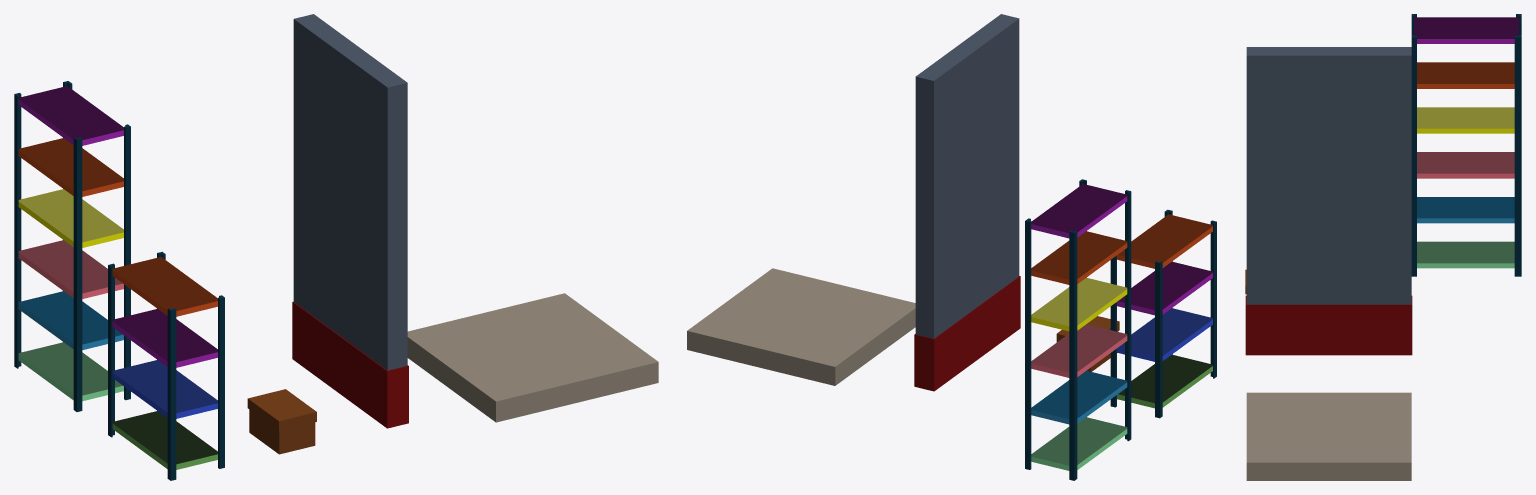
The model's file is CosasArchivo.fbx.
The picture shows the model from 3 angles, left to right: view 1: azimuth 30°, elevation 25°; view 2: azimuth 150°, elevation 25°; view 3: azimuth 270°, elevation 25°; orthographic projection. The views are drawn at different scales.
Parts seen in each view (by area): view 1: ParedArchivo, 2, PisoAr, 1, CajaGrande; view 2: ParedArchivo, 2, PisoAr, 1; view 3: ParedArchivo, 2, PisoAr.
Boxes of the visible parts, x1,y1,x2,y2 form: ParedArchivo: (292, 14, 408, 428); 2: (14, 81, 130, 411); PisoAr: (407, 293, 658, 422); 1: (108, 251, 224, 480); CajaGrande: (247, 389, 316, 454); ParedArchivo: (914, 14, 1020, 391); 2: (1025, 179, 1131, 480); PisoAr: (687, 268, 915, 385); 1: (1110, 209, 1216, 418); ParedArchivo: (1245, 47, 1412, 355); 2: (1411, 14, 1521, 276); PisoAr: (1246, 392, 1411, 480).
Bounding box in the file's own units: 900 × 637 × 502.
3 materials, 3 textured.
